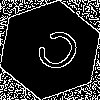C: (25, 25, 85, 83)
